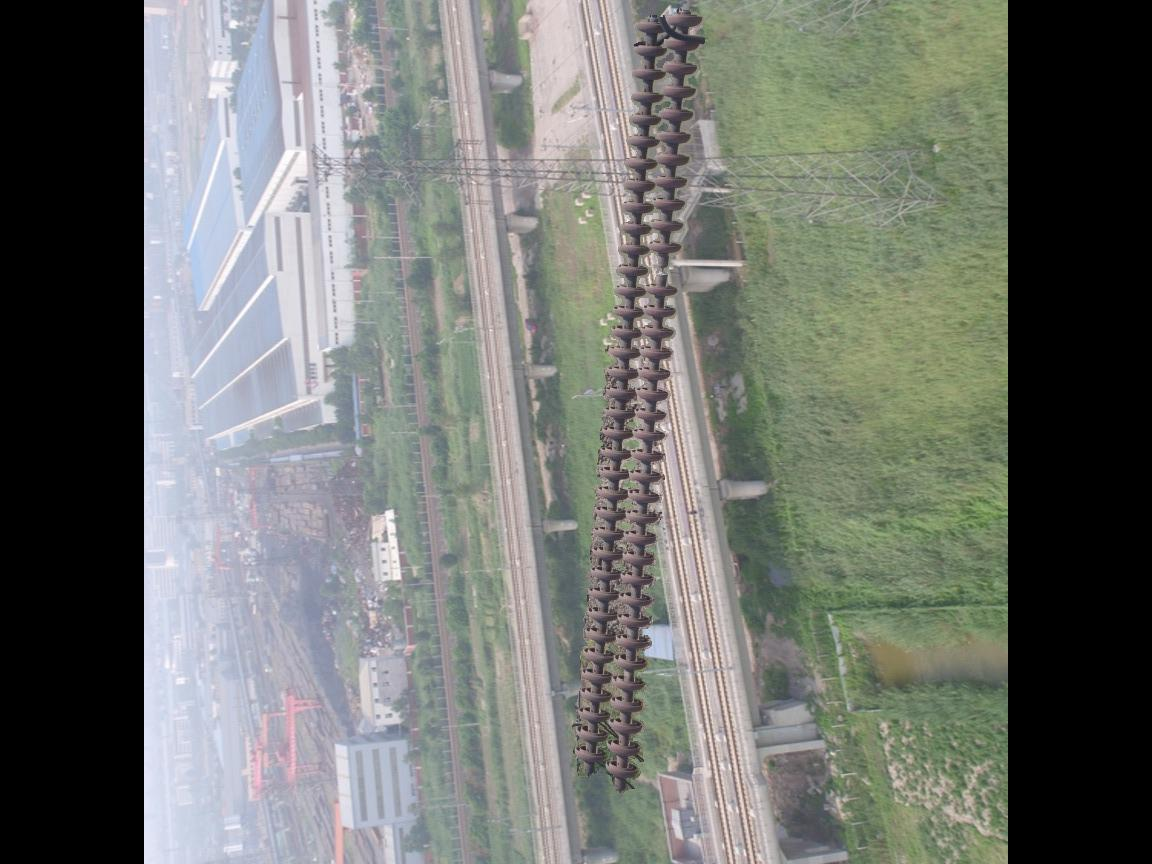insulator: (567, 7, 709, 791)
insulator_stringdrop: (643, 238, 686, 302)
